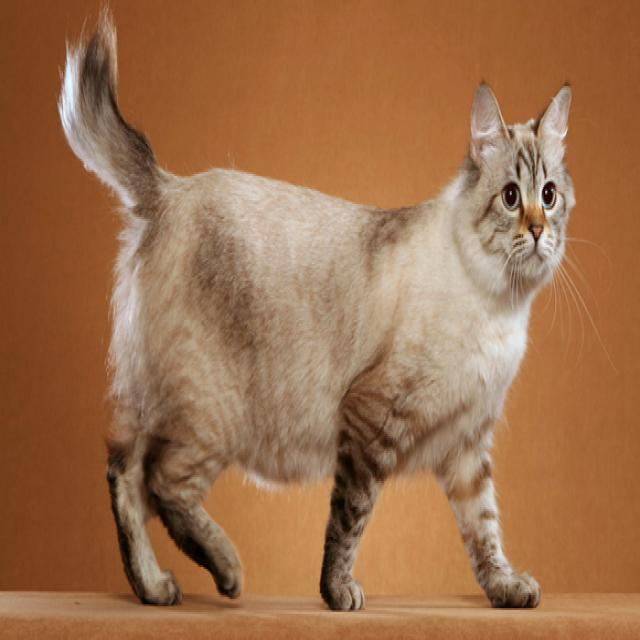American Bobtail: (58, 3, 578, 620)
